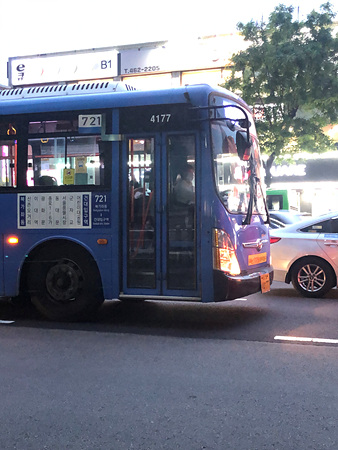entrance: (121, 128, 206, 300)
